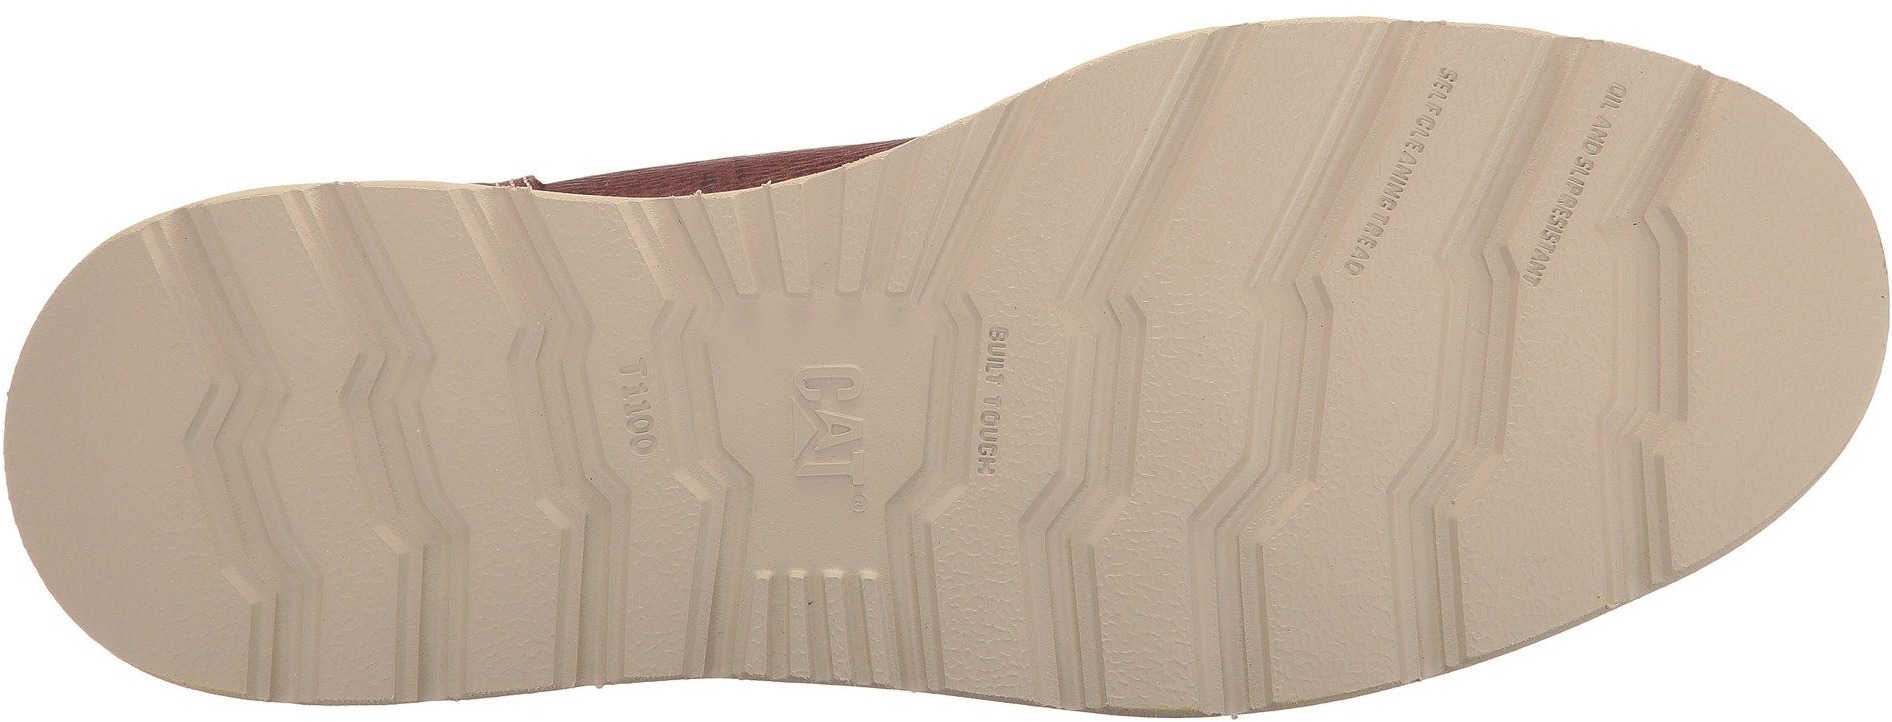chevron: (233, 180, 620, 532)
line: (1062, 76, 1374, 289), (1005, 511, 1240, 688), (1191, 280, 1345, 534), (1020, 307, 1178, 508)
other: (1694, 234, 1869, 404), (11, 398, 186, 567)
quad: (316, 286, 545, 507), (1145, 58, 1355, 257), (1002, 510, 1196, 692), (744, 557, 899, 692), (1217, 327, 1363, 466), (1411, 293, 1551, 433), (801, 181, 930, 309), (757, 553, 880, 677)
text: (761, 354, 890, 471), (784, 347, 874, 493), (971, 299, 1012, 505), (592, 373, 670, 468), (1412, 64, 1494, 140), (615, 347, 662, 462), (1357, 170, 1433, 237), (979, 326, 1053, 390), (1584, 75, 1652, 139), (974, 408, 1040, 468), (1551, 150, 1608, 205)
